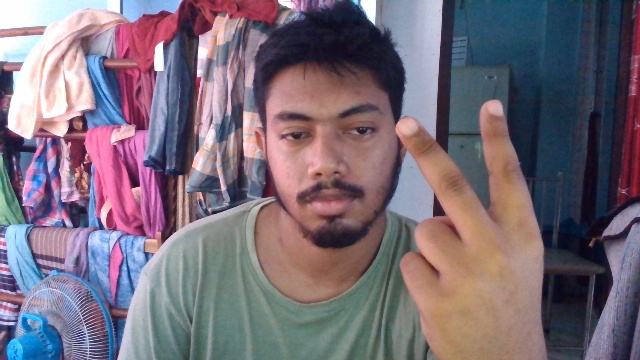thanks: (380, 100, 558, 346)
